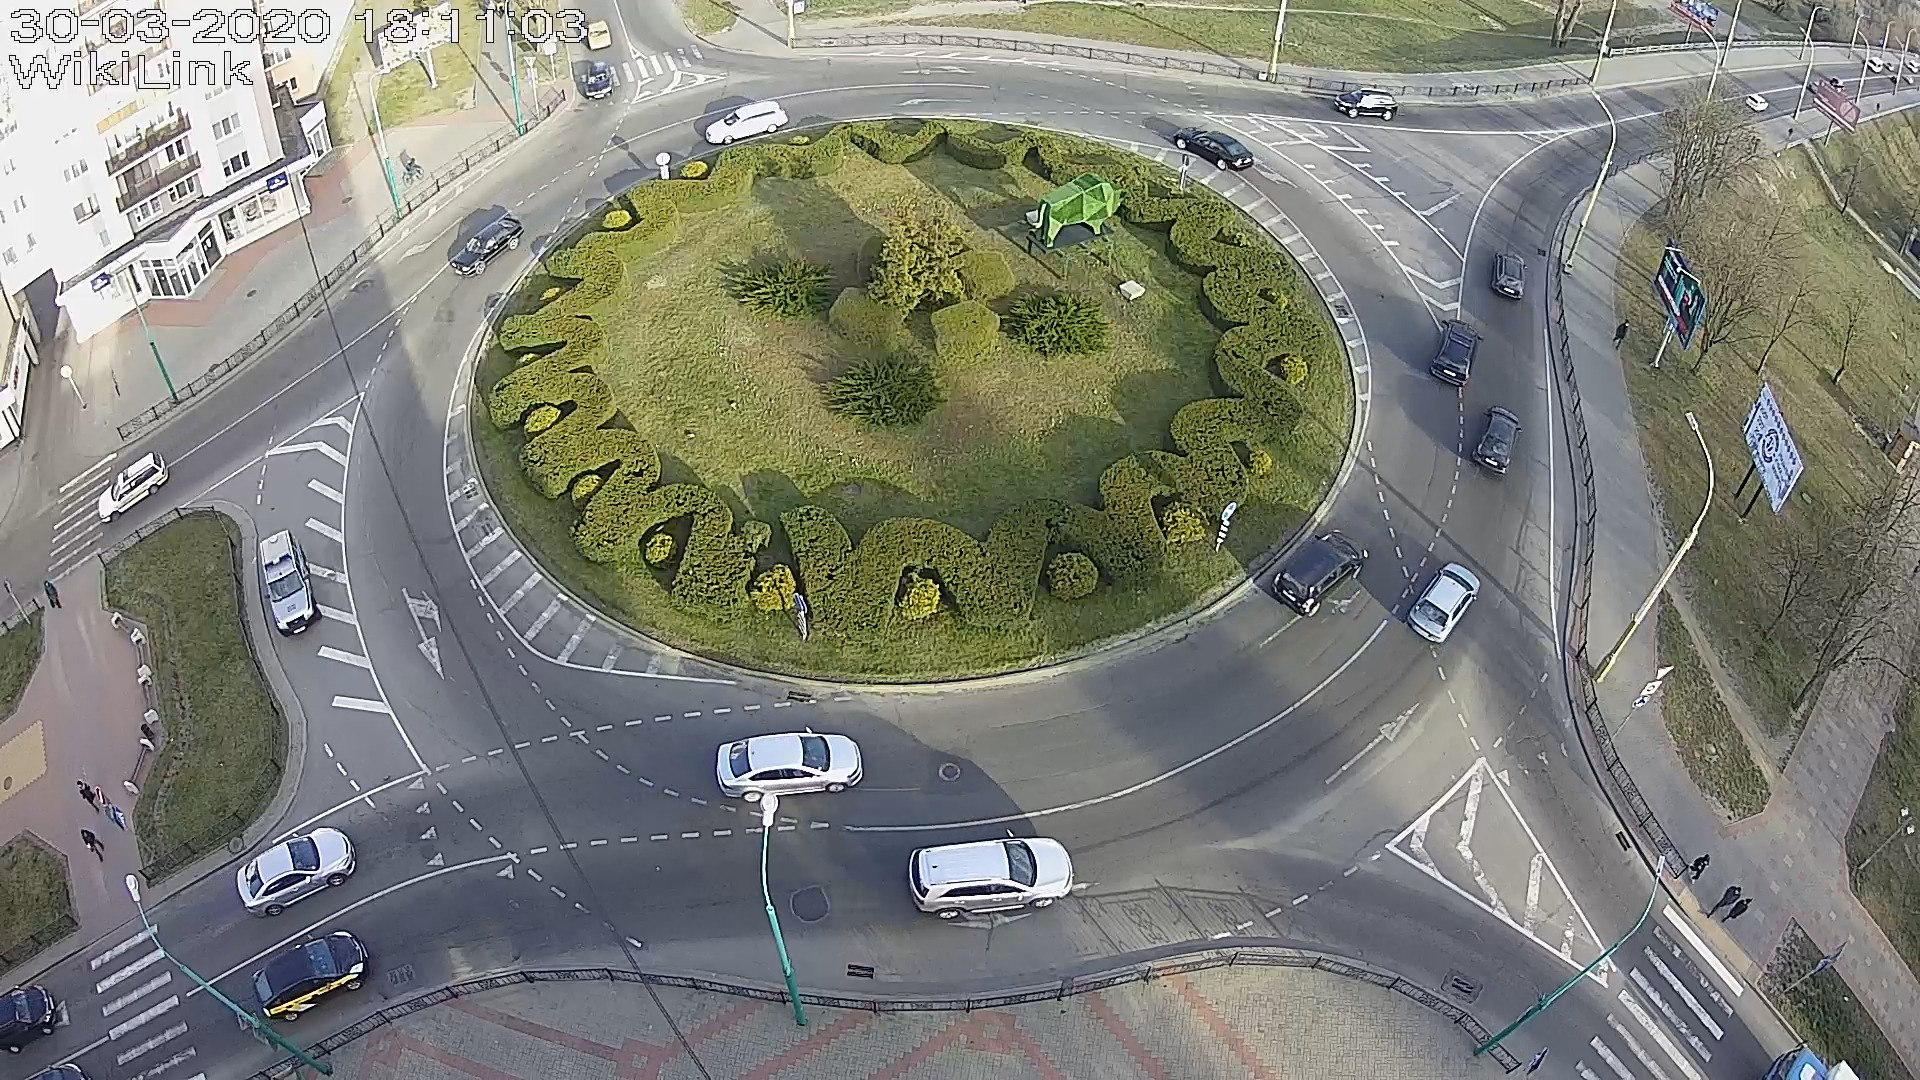car: (909, 829, 1075, 918), (251, 928, 369, 1022), (717, 727, 864, 802), (236, 825, 356, 916), (1273, 529, 1370, 618), (260, 529, 322, 637), (1408, 560, 1481, 644), (98, 451, 169, 524), (450, 216, 524, 278), (1429, 319, 1485, 386), (705, 100, 789, 145), (1172, 127, 1254, 171), (1472, 406, 1522, 475), (1335, 88, 1398, 121), (1490, 251, 1528, 301), (585, 59, 613, 100)
